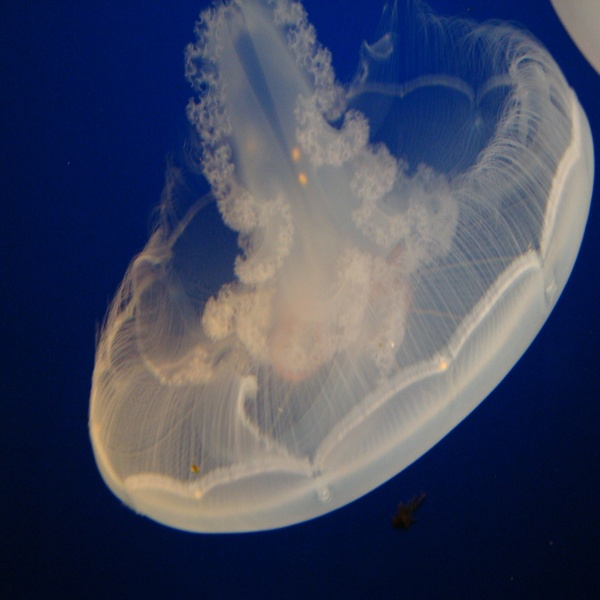Jellyfish: (86, 0, 581, 556)
